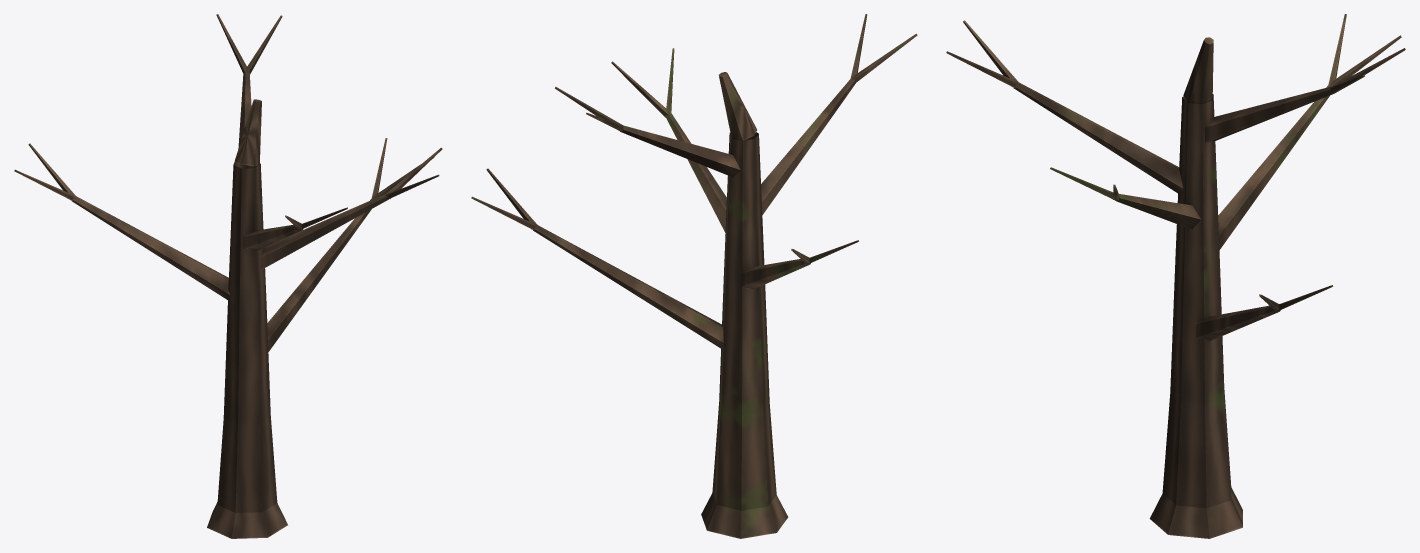
File: Arbol_Muerto.glb
3 views of the same model, side by side, from view 1: azimuth 30°, elevation 25°; view 2: azimuth 150°, elevation 25°; view 3: azimuth 270°, elevation 25° (orthographic). The views are drawn at different scales.
Visible parts, largest first — view 1: Arbol_Muerto; view 2: Arbol_Muerto; view 3: Arbol_Muerto.
Boxes of the visible parts, <box> form: Arbol_Muerto: <box>14,14,442,538</box>; Arbol_Muerto: <box>471,14,917,538</box>; Arbol_Muerto: <box>946,14,1405,538</box>.
Bounding box in the file's own units: 10.05 × 10.76 × 8.89.
1 material, 1 textured.
